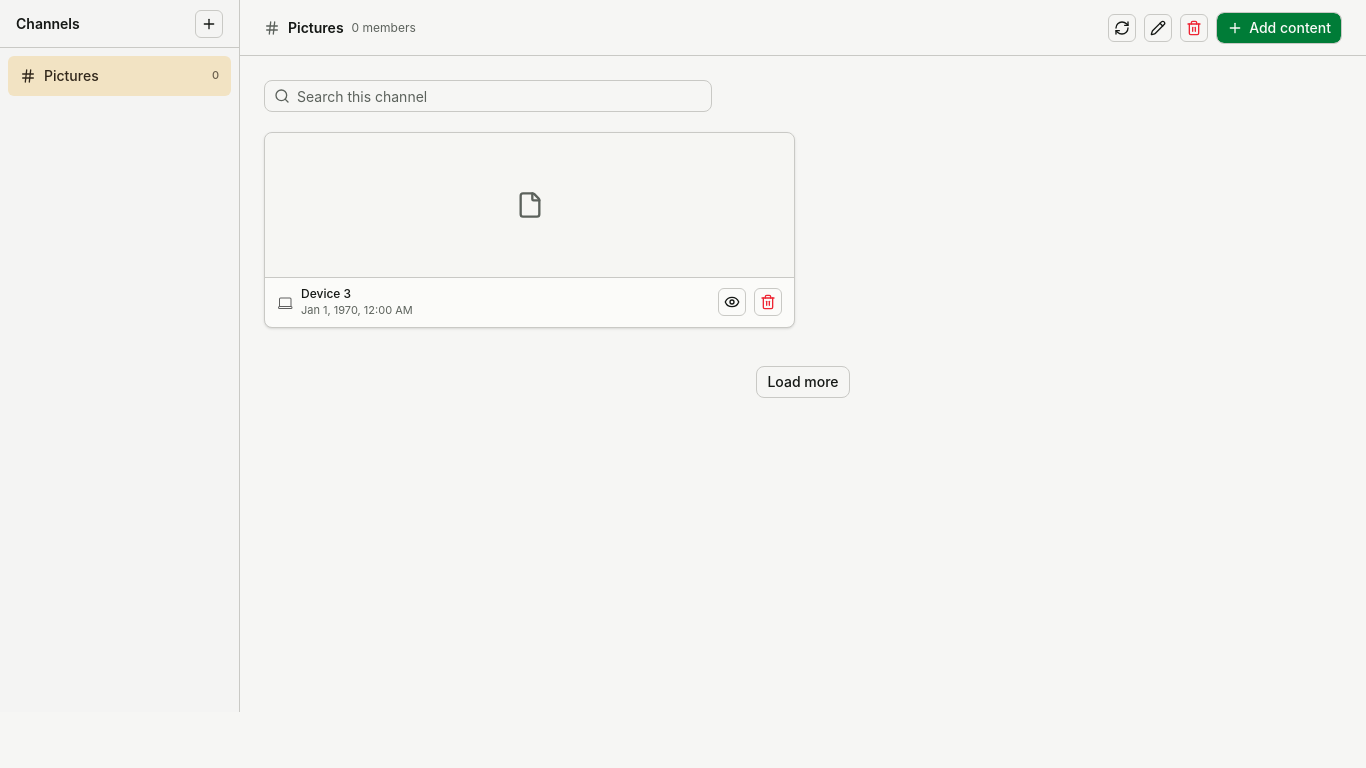
it: keeps existing cards and allows retry when a later page fails
Expected: the text "Device 3" is shown, [301, 286, 351, 301]
Click the button "Load more": (803, 382) [756, 366, 850, 398]
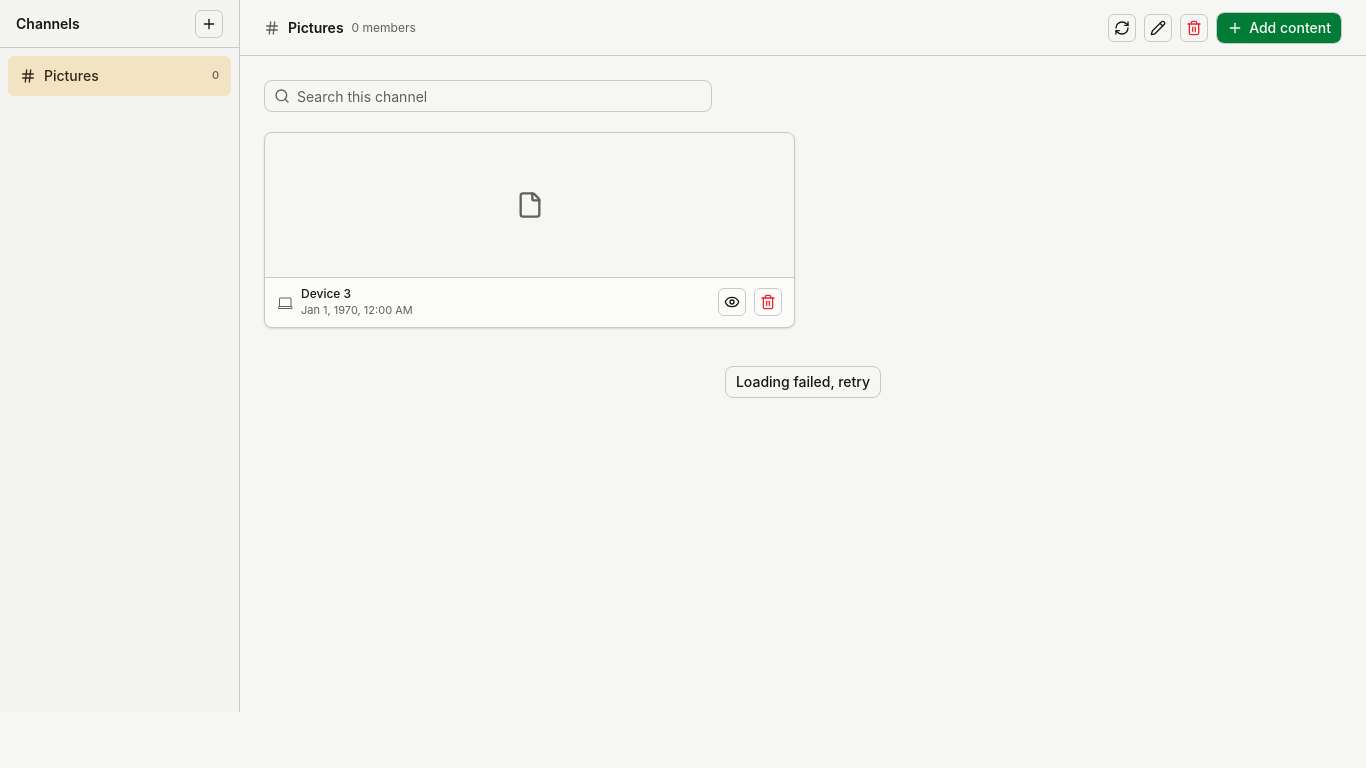
Expected: the text "Device 3" is shown, [301, 286, 351, 301]
Now the button "Loading failed, retry" is shown
Click the button "Loading failed, retry": (803, 382) [725, 366, 881, 398]
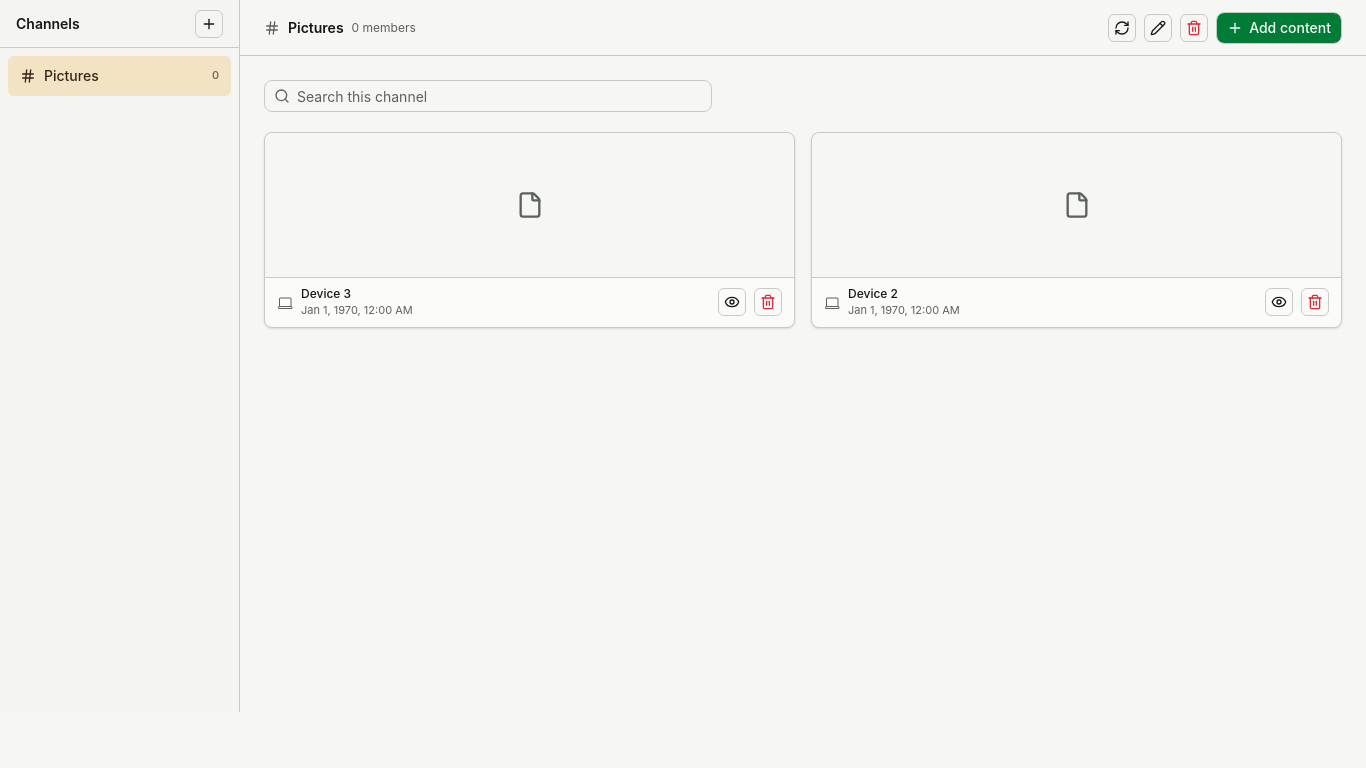
Now the text "Device 2" is shown, box [848, 286, 898, 301]
